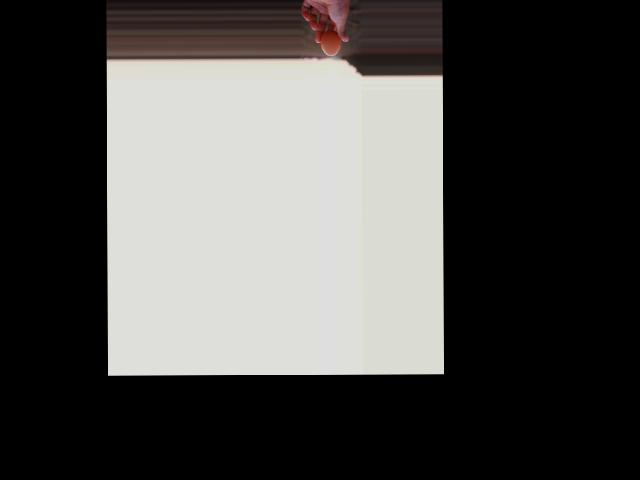egg: (320, 30, 340, 56)
